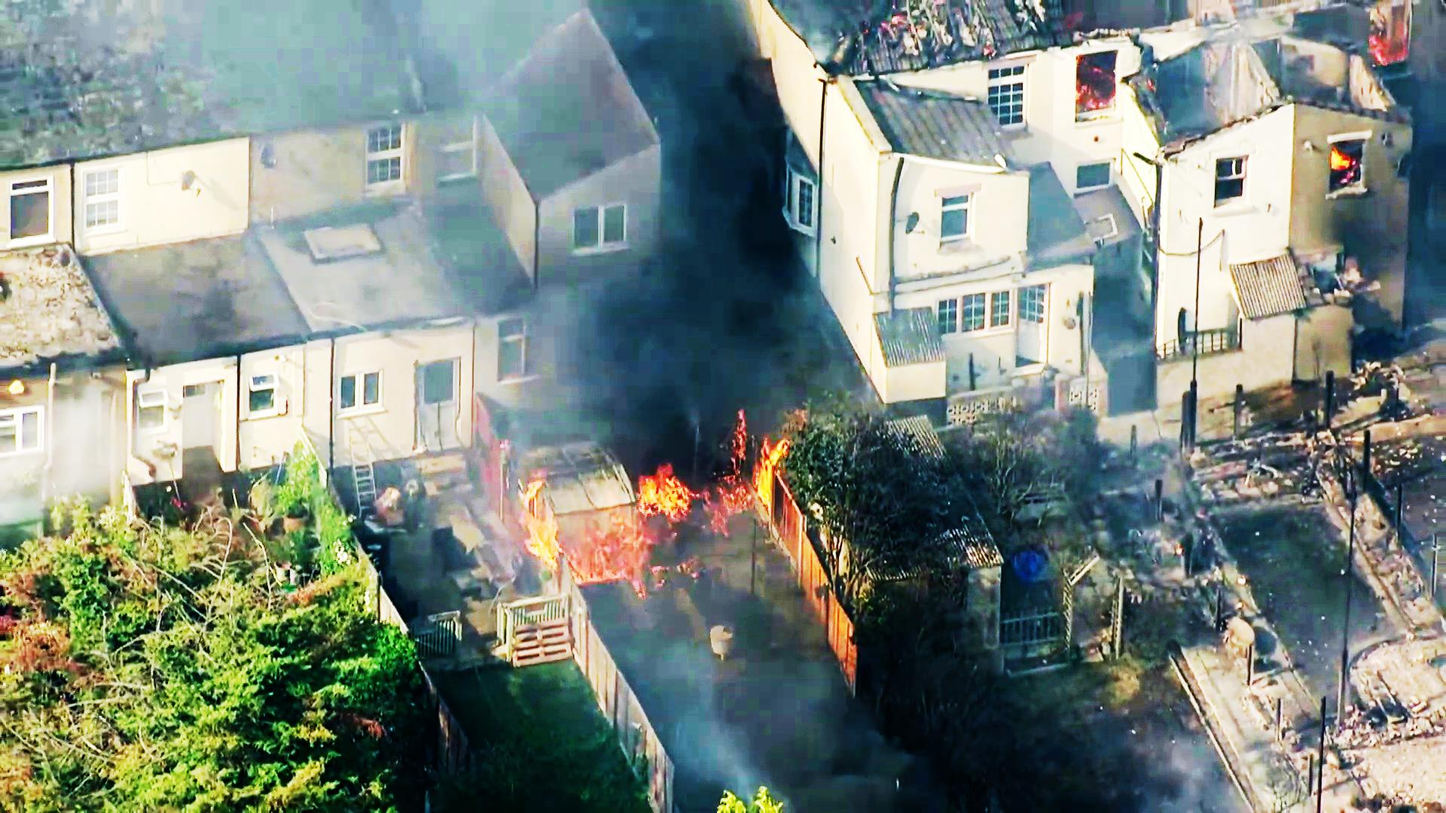fire: (439, 428, 797, 615)
